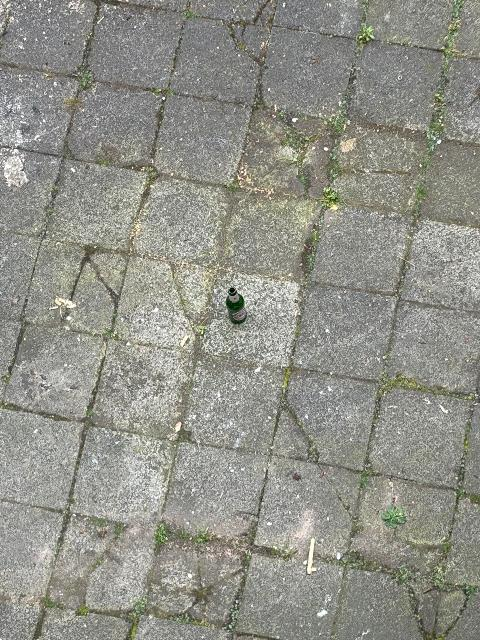glass_bottle: (227, 288, 248, 327)
